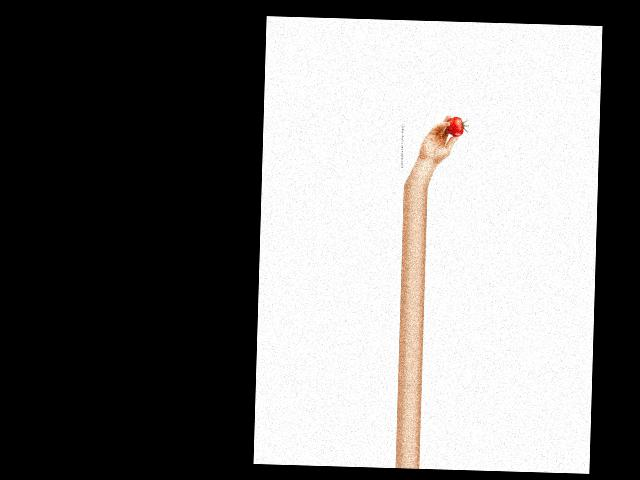tomato: (446, 116, 463, 137)
